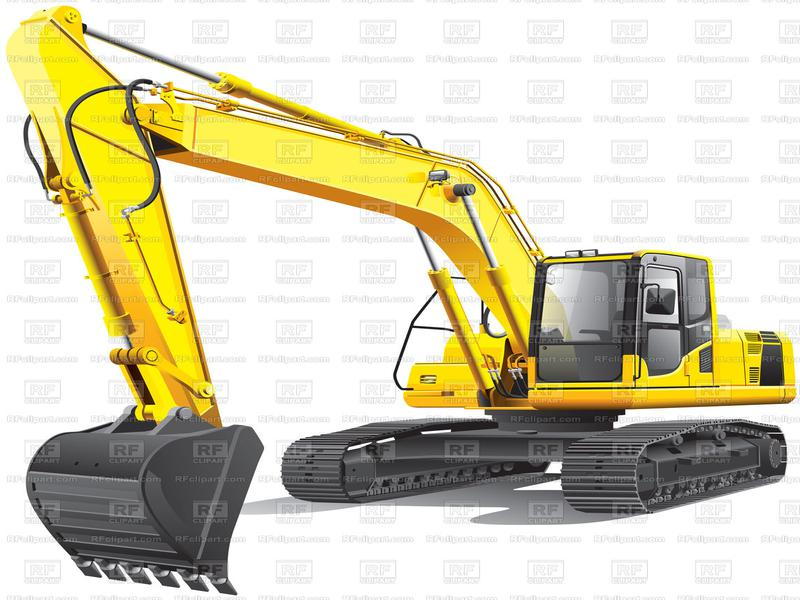shovel: (4, 6, 800, 589)
